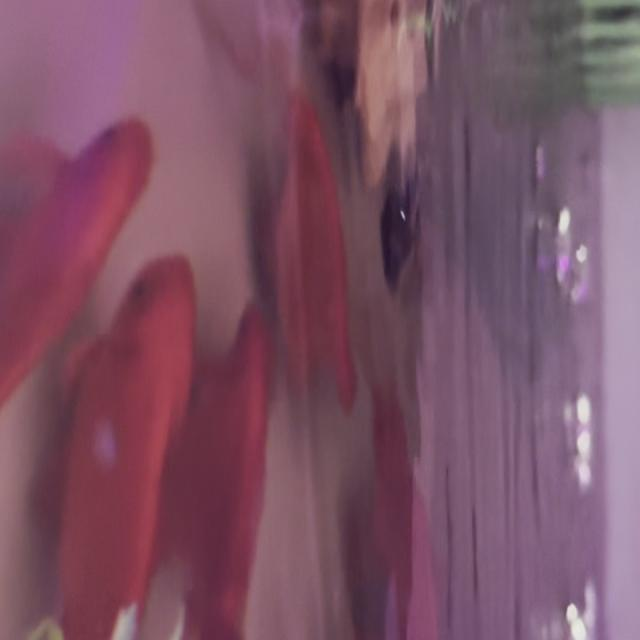fish: (0, 21, 158, 601), (37, 246, 193, 640), (157, 290, 271, 640), (274, 83, 361, 415)
